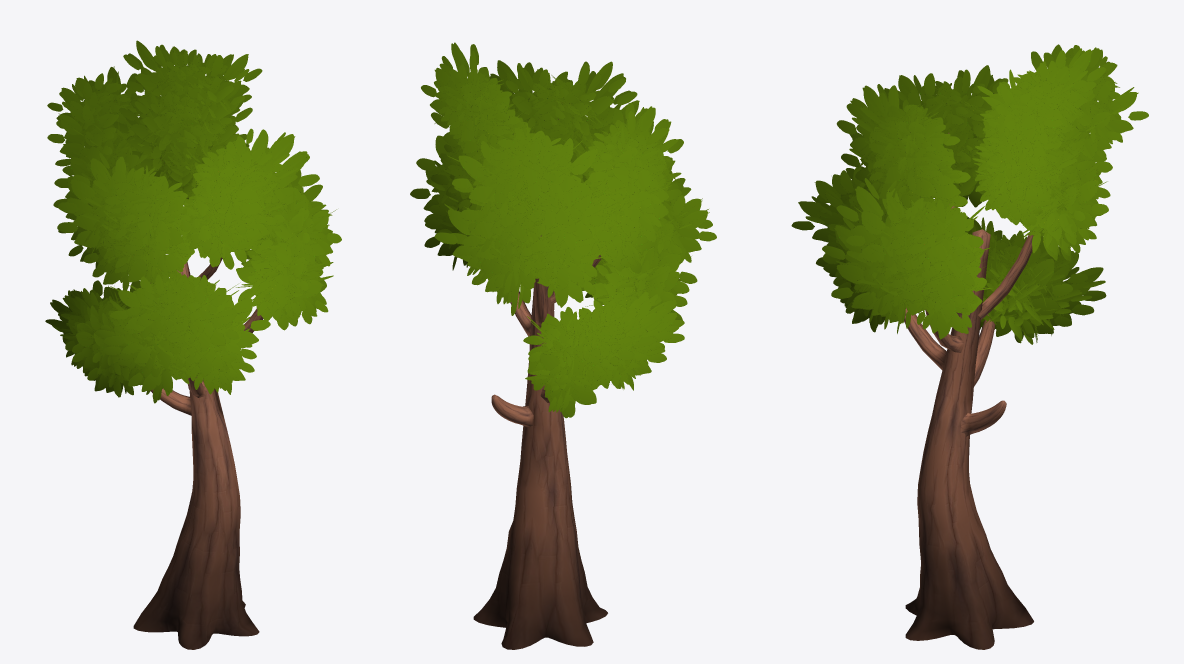
Rendered from CommonTree_5.gltf.
3 renders of one model, left to right at view 1: azimuth 30°, elevation 25°; view 2: azimuth 150°, elevation 25°; view 3: azimuth 270°, elevation 25°, orthographic. The views are drawn at different scales.
Parts seen in each view (by area): view 1: CommonTree_5; view 2: CommonTree_5; view 3: CommonTree_5.
Part boxes in pixels (x1=…): CommonTree_5: x1=45, y1=40, x2=341, y2=649; CommonTree_5: x1=410, y1=42, x2=716, y2=649; CommonTree_5: x1=791, y1=44, x2=1148, y2=649.
Bounding box in the file's own units: 3.67 × 7.01 × 4.22.
2 materials, 2 textured.
